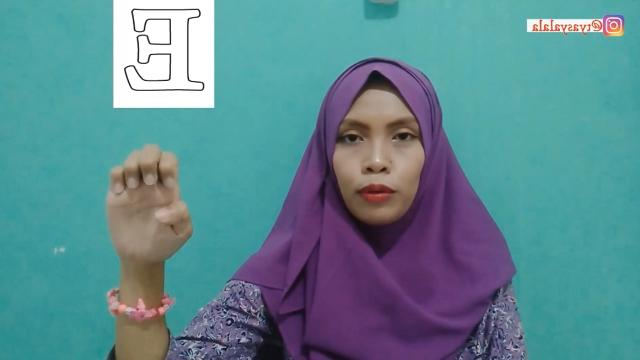E: (105, 142, 193, 266)
